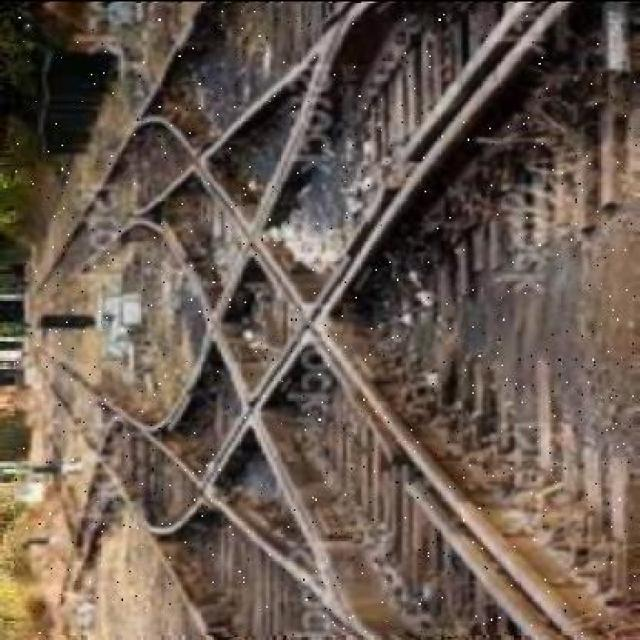rail: (16, 2, 637, 633)
